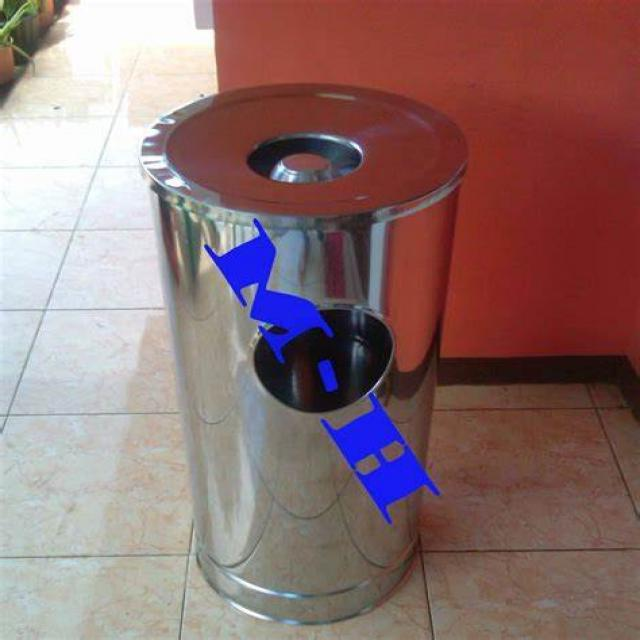garbage container: (110, 72, 476, 631)
